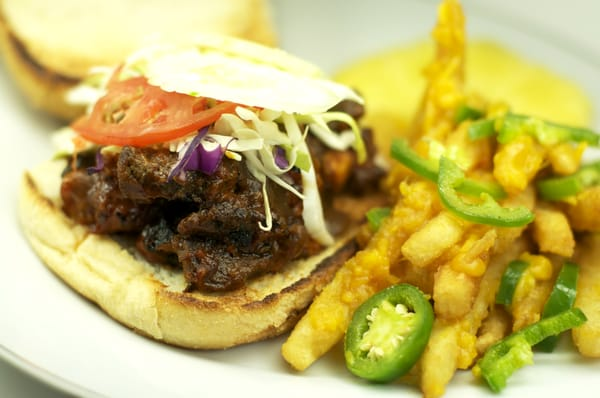soup: (17, 29, 389, 349)
